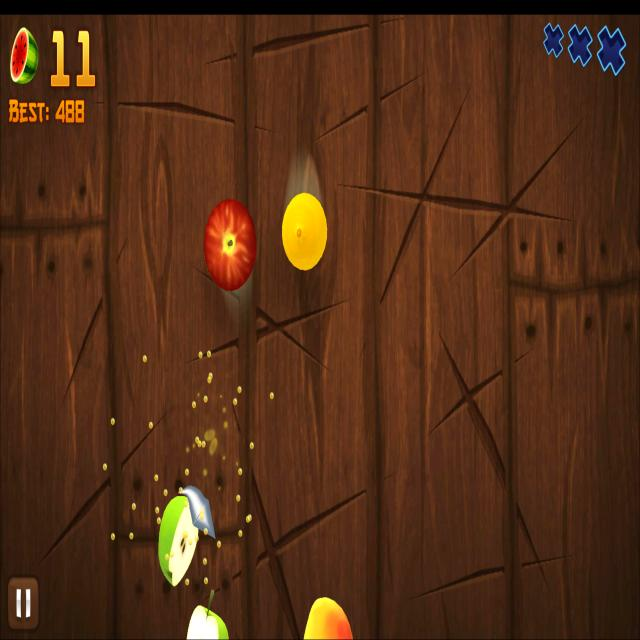fruit: (203, 198, 257, 292), (281, 192, 328, 271), (304, 594, 353, 640)
